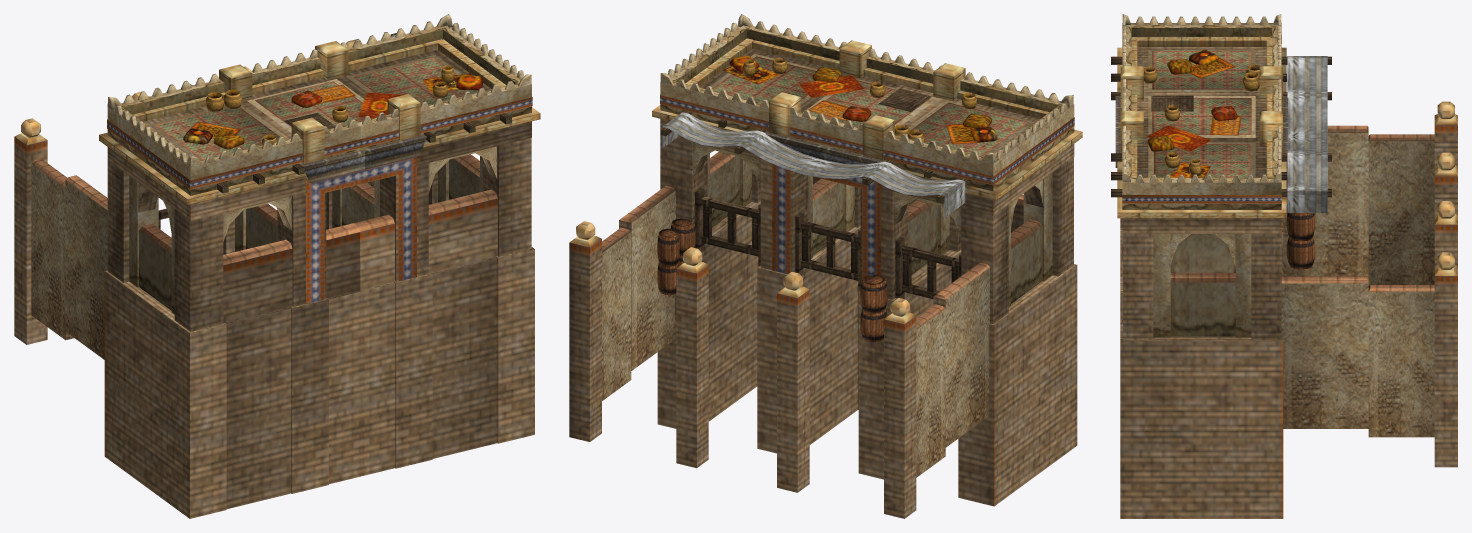
File: s_persians_stable_elephant.glb
3 renders of one model, left to right at view 1: azimuth 30°, elevation 25°; view 2: azimuth 150°, elevation 25°; view 3: azimuth 270°, elevation 25°, orthographic. The views are drawn at different scales.
Visible parts, largest first — view 1: s_persians_stable_elephant_part0; view 2: s_persians_stable_elephant_part0; view 3: s_persians_stable_elephant_part0.
Boxes of the visible parts, x1=… form: s_persians_stable_elephant_part0: x1=14, y1=14, x2=540, y2=518; s_persians_stable_elephant_part0: x1=569, y1=14, x2=1082, y2=518; s_persians_stable_elephant_part0: x1=1111, y1=14, x2=1457, y2=518.
Size of the model in its own units: 5 by 4.89 by 4.44.
Materials: 1 (1 with a texture image).
